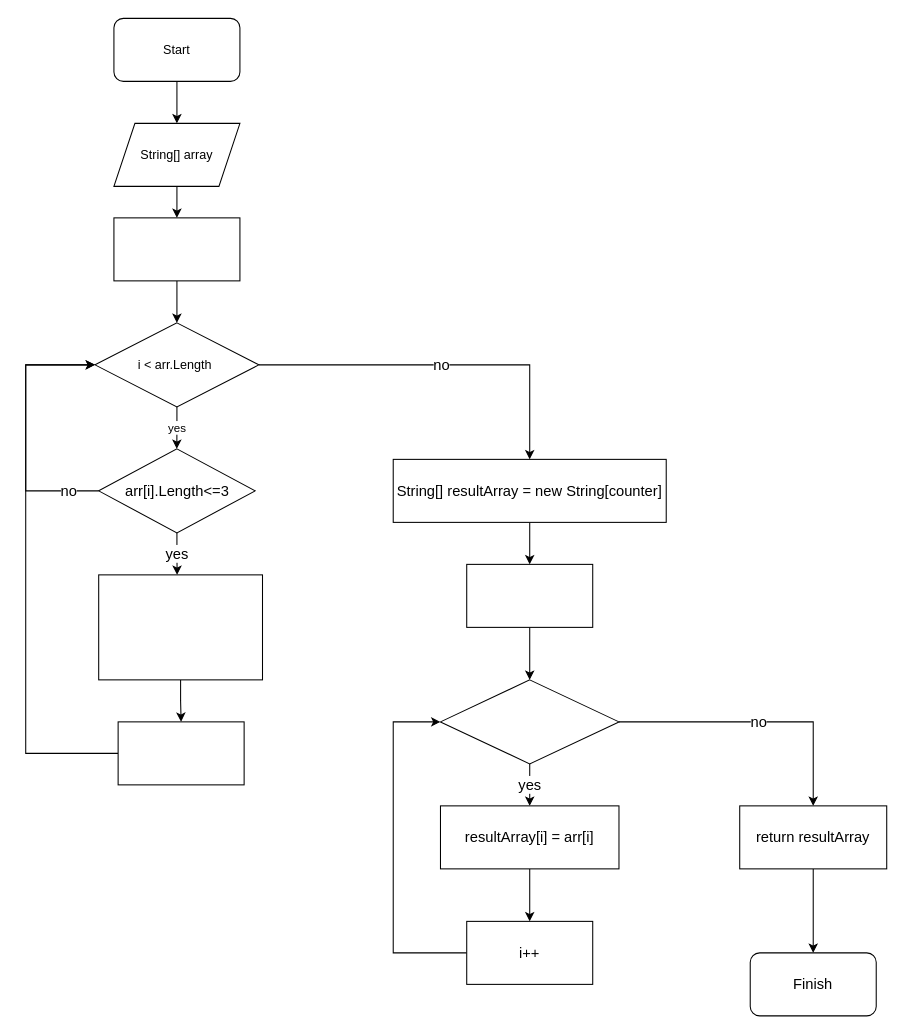
Some shapes in this 905 by 1034 pixel diagram are drawn without their labels. Here are the shapes that lost their labels. From the top down, the centre of each, then its label:
At [176,249]: "int counter =0, int i =0; String temp = 0;".
At [529,595]: "i = 0".
At [180,627]: "temp = arr[i]; arr[i] = arr[counter]; arr[counter] = temp".
At [529,721]: "i<resultArray.Length".
At [180,753]: "counter++; i++;".
